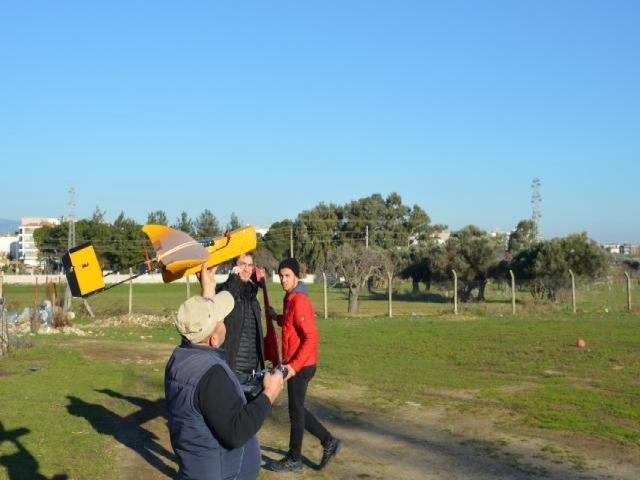iha: (61, 219, 266, 301)
